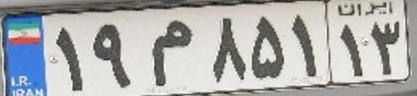character: (137, 14, 203, 92), (204, 12, 249, 89), (89, 18, 133, 94), (249, 8, 289, 84), (286, 9, 327, 81), (48, 23, 88, 96), (368, 16, 404, 80), (334, 17, 368, 84)
